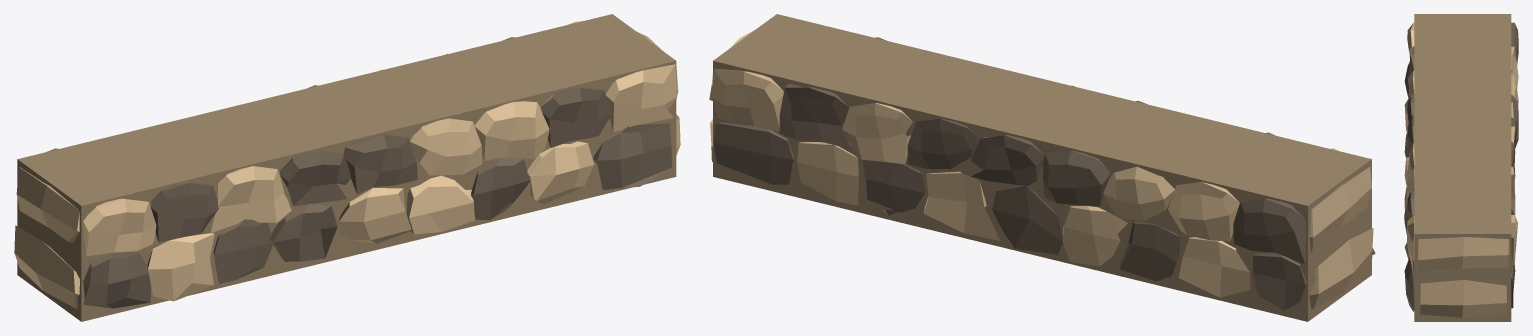
The model's file is VallaPiedraSinTextura.fbx.
3 views of the same model, side by side, from view 1: azimuth 30°, elevation 25°; view 2: azimuth 150°, elevation 25°; view 3: azimuth 270°, elevation 25° (orthographic). The views are drawn at different scales.
Parts seen in each view (by area): view 1: BaseMuro, PiedrasDecorativa1, Piedradecorativa2, PiedrasDecorativas3; view 2: BaseMuro, PiedrasDecorativa1, Piedradecorativa2, PiedrasDecorativas3; view 3: BaseMuro, PiedrasDecorativas4, PiedrasDecorativa1, Piedradecorativa2.
Boxes of the visible parts, x1=… form: BaseMuro: x1=17, y1=14, x2=676, y2=321; PiedrasDecorativa1: x1=47, y1=21, x2=676, y2=256; Piedradecorativa2: x1=83, y1=123, x2=671, y2=308; PiedrasDecorativas3: x1=14, y1=167, x2=79, y2=308; BaseMuro: x1=713, y1=14, x2=1371, y2=321; PiedrasDecorativa1: x1=712, y1=37, x2=1339, y2=264; Piedradecorativa2: x1=713, y1=122, x2=1375, y2=310; PiedrasDecorativas3: x1=1300, y1=167, x2=1373, y2=309; BaseMuro: x1=1414, y1=14, x2=1511, y2=321; PiedrasDecorativas4: x1=1417, y1=236, x2=1509, y2=318; PiedrasDecorativa1: x1=1407, y1=22, x2=1518, y2=274; Piedradecorativa2: x1=1404, y1=62, x2=1515, y2=311.
Size of the model in its own units: 1124 by 203 by 236.
